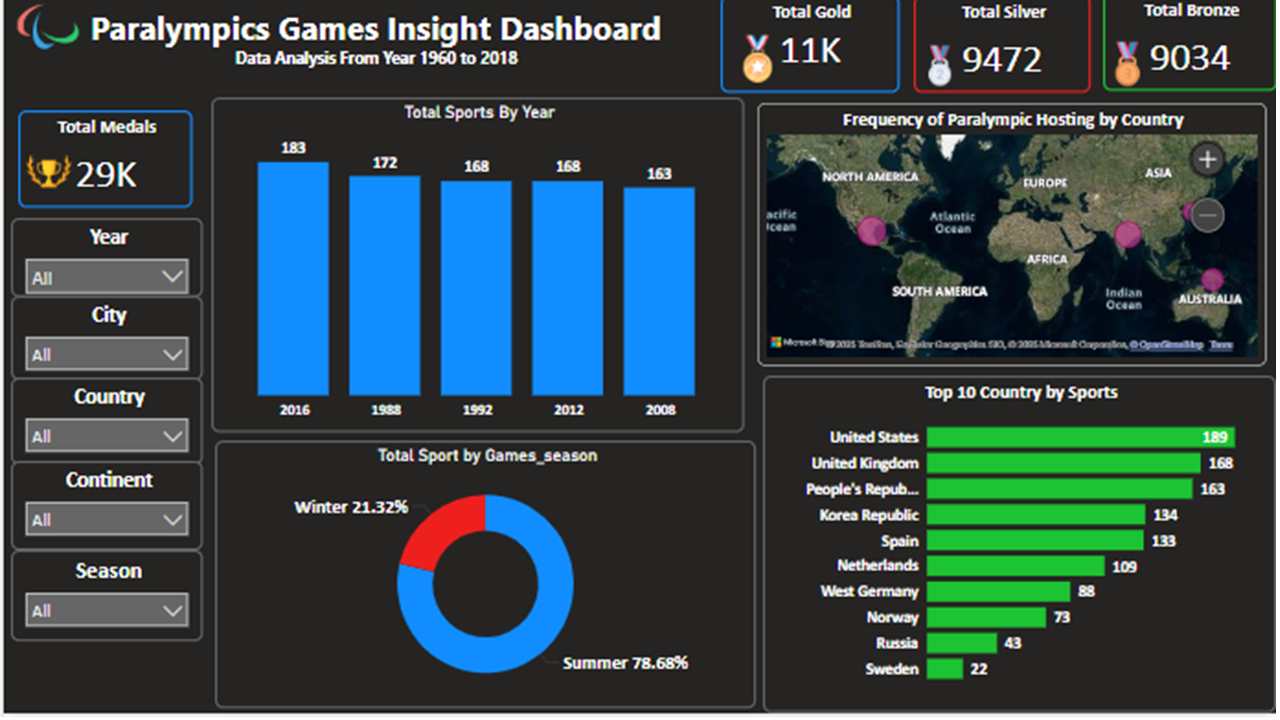

The page's visual inventory and layout, read from the dashboard file:
{"tool":"powerbi","page":{"name":"Dashboard1","canvas":[1280,720],"ordinal":0},"visuals":[{"type":"textbox","box":[47,6.7,656.8,87.3],"z":0},{"type":"image","box":[0,0,89,72.2],"z":1000},{"type":"donutChart","title":"Total Sport by Games_season","fields":{"Category":["Paralympics.games_season"],"Y":["CountNonNull(Paralympics.sport)"]},"box":[213.3,448.5,544.3,267.1],"z":2000},{"type":"clusteredBarChart","title":"Top 10 Country by Sports","fields":{"Category":["Paralympics.games_country"],"Y":["CountNonNull(Paralympics.sport)"]},"box":[764.3,383,515.7,336],"z":3000},{"type":"card","title":"Total Gold","fields":{"Values":["MeasureTable.Total Gold"]},"box":[721.6,3.4,179.7,97.4],"z":4000},{"type":"card","title":"Total Silver","fields":{"Values":["MeasureTable.Total Silver"]},"box":[914.8,3.4,178.1,97.4],"z":5000},{"type":"card","title":"Total Bronze","fields":{"Values":["MeasureTable.Total Bronze"]},"box":[1105.3,1.7,174.7,97.4],"z":6000},{"type":"card","title":"Total Medals","fields":{"Values":["MeasureTable.Total Medals"]},"box":[15.1,119.3,174.7,97.4],"z":7000},{"type":"slicer","title":"Year","fields":{"Values":["Paralympics.games_year"]},"box":[6.7,224.8,193.2,79],"z":8000},{"type":"slicer","title":"City","fields":{"Values":["Paralympics.games_city"]},"box":[6.7,302.5,193.2,84],"z":9000},{"type":"slicer","title":"Country","fields":{"Values":["Paralympics.games_country"]},"box":[6.7,384.8,193.2,87.3],"z":10000},{"type":"slicer","title":"Continent","fields":{"Values":["Paralympics.games_continent"]},"box":[6.7,468.8,193.2,89],"z":11000},{"type":"image","box":[720,37,77.3,60.5],"z":12000},{"type":"image","box":[906.4,45.4,70.6,55.4],"z":13000},{"type":"image","box":[1092.9,42,75.6,58.8],"z":14000},{"type":"clusteredColumnChart","title":"Total Sports By Year","fields":{"Category":["Paralympics.games_year"],"Y":["CountNonNull(Paralympics.sport)"]},"box":[208.3,105.8,535.9,334.3],"z":15000},{"type":"slicer","title":"Season","fields":{"Values":["Paralympics.games_season"]},"box":[6.7,556.1,193.2,90.7],"z":16000},{"type":"image","box":[18.5,146.1,53.8,65.5],"z":17000},{"type":"map","title":"Frequency of Paralympic Hosting by Country","fields":{"Category":["Paralympics.games_country"],"Size":["CountNonNull(Paralympics.games_country)"]},"box":[759.3,110.9,512.3,262],"z":19000}]}

Visuals, with their boxes in screenshot pixels (x1, y1, x2, y2), scaled from the page's 1280x720 canvas onto the 1280x720 screenshot:
textbox: Rect(47, 7, 704, 94)
image: Rect(0, 0, 89, 72)
"Total Sport by Games_season" donutChart: Rect(213, 448, 758, 716)
"Top 10 Country by Sports" clusteredBarChart: Rect(764, 383, 1279, 719)
"Total Gold" card: Rect(722, 3, 901, 101)
"Total Silver" card: Rect(915, 3, 1093, 101)
"Total Bronze" card: Rect(1105, 2, 1279, 99)
"Total Medals" card: Rect(15, 119, 190, 217)
"Year" slicer: Rect(7, 225, 200, 304)
"City" slicer: Rect(7, 302, 200, 386)
"Country" slicer: Rect(7, 385, 200, 472)
"Continent" slicer: Rect(7, 469, 200, 558)
image: Rect(720, 37, 797, 98)
image: Rect(906, 45, 977, 101)
image: Rect(1093, 42, 1168, 101)
"Total Sports By Year" clusteredColumnChart: Rect(208, 106, 744, 440)
"Season" slicer: Rect(7, 556, 200, 647)
image: Rect(18, 146, 72, 212)
"Frequency of Paralympic Hosting by Country" map: Rect(759, 111, 1272, 373)
